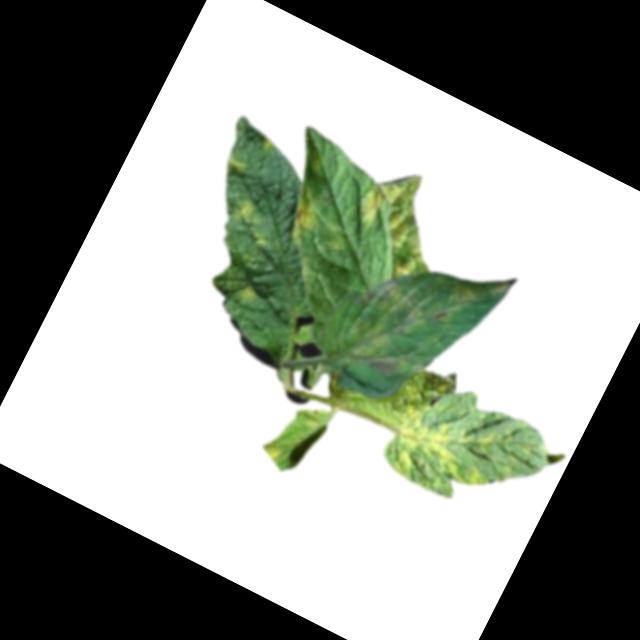Leaf_Mold: (342, 161, 465, 292), (329, 268, 447, 390), (376, 392, 500, 507), (422, 240, 518, 328), (277, 189, 326, 248), (348, 182, 391, 227), (228, 194, 261, 226), (235, 278, 263, 306)
